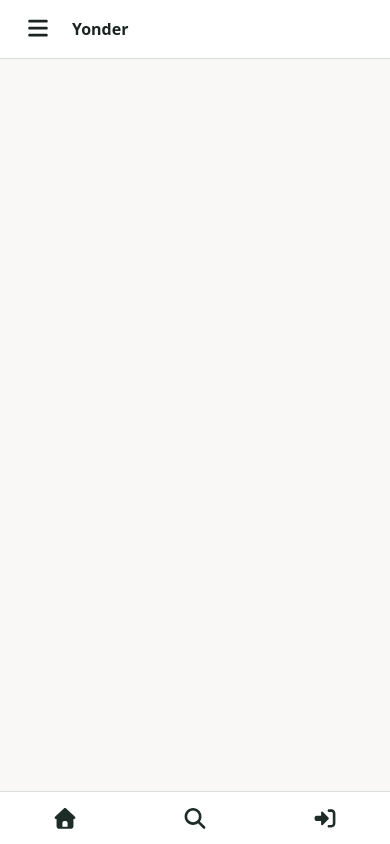
AppLayout › mobile menu closes on route change
Click the button with class "layout__burger" at [38, 29], box [16,8,60,50]
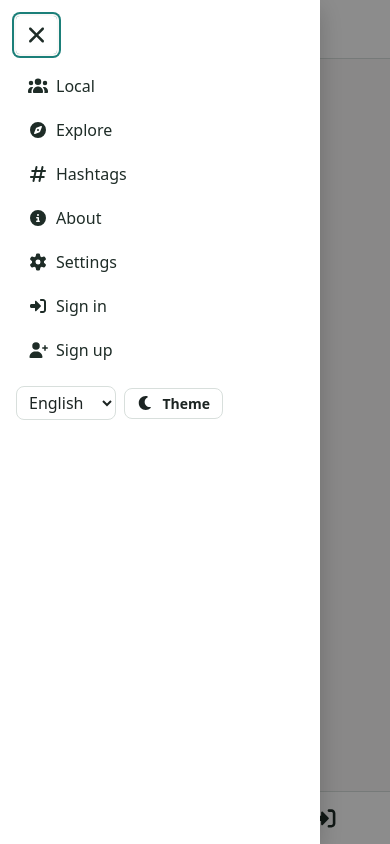
Now the element with test id "mobile-menu" is shown
